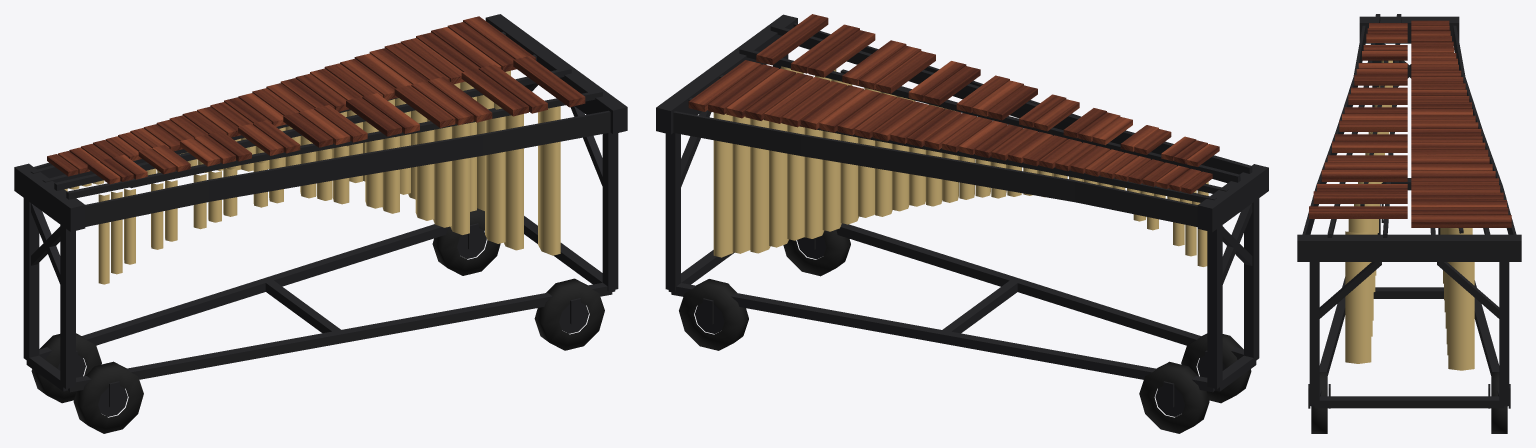
The model's file is marimba-4.3-low.glb.
The picture shows the model from 3 angles, left to right: view 1: azimuth 30°, elevation 25°; view 2: azimuth 150°, elevation 25°; view 3: azimuth 270°, elevation 25°; orthographic projection. The views are drawn at different scales.
Parts seen in each view (by area): view 1: frame, bars-rosewood, resonators-gold, artwork, rubber; view 2: frame, bars-rosewood, resonators-gold, rubber; view 3: bars-rosewood, frame, resonators-gold, rubber.
Part boxes in pixels (<box>): frame: <box>14,14,627,416</box>; bars-rosewood: <box>47,16,585,184</box>; resonators-gold: <box>64,70,560,284</box>; artwork: <box>85,112,610,226</box>; rubber: <box>31,208,604,433</box>; frame: <box>656,14,1268,416</box>; bars-rosewood: <box>688,14,1219,193</box>; resonators-gold: <box>713,66,1208,266</box>; rubber: <box>679,230,1251,433</box>; bars-rosewood: <box>1309,20,1511,227</box>; frame: <box>1297,14,1521,408</box>; resonators-gold: <box>1345,60,1474,370</box>; rubber: <box>1311,204,1507,433</box>.
Size of the model in its own units: 2.13 by 0.9759 by 0.8992.
5 materials, 1 textured.
